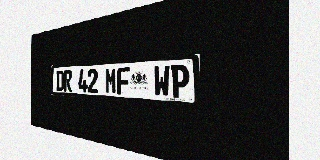2: (88, 69, 97, 93)
4: (78, 69, 87, 93)
D: (56, 70, 63, 91)
F: (117, 67, 130, 95)
M: (105, 68, 117, 94)
P: (171, 64, 189, 98)
R: (64, 70, 72, 92)
W: (153, 65, 170, 97)
